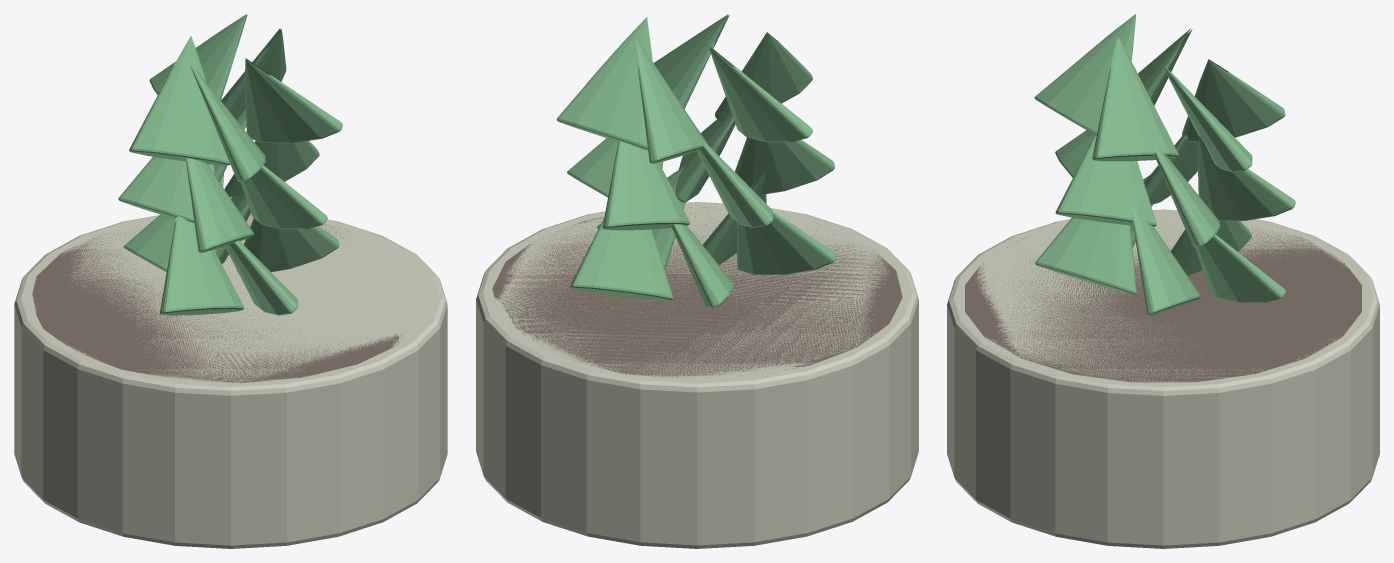
Rendered from modern_office_asset_library_board_29.glb.
The picture shows the model from 3 angles, left to right: view 1: azimuth 30°, elevation 25°; view 2: azimuth 150°, elevation 25°; view 3: azimuth 270°, elevation 25°; orthographic projection. The views are drawn at different scales.
Parts seen in each view (by area): view 1: Cylinder; view 2: Cylinder; view 3: Cylinder.
Part boxes in pixels (left/top/right/bottom): Cylinder: left=14, top=14, right=447, bottom=548; Cylinder: left=476, top=14, right=918, bottom=548; Cylinder: left=947, top=14, right=1379, bottom=548.
Size of the model in its own units: 0.9232 by 0.9875 by 0.9232.
